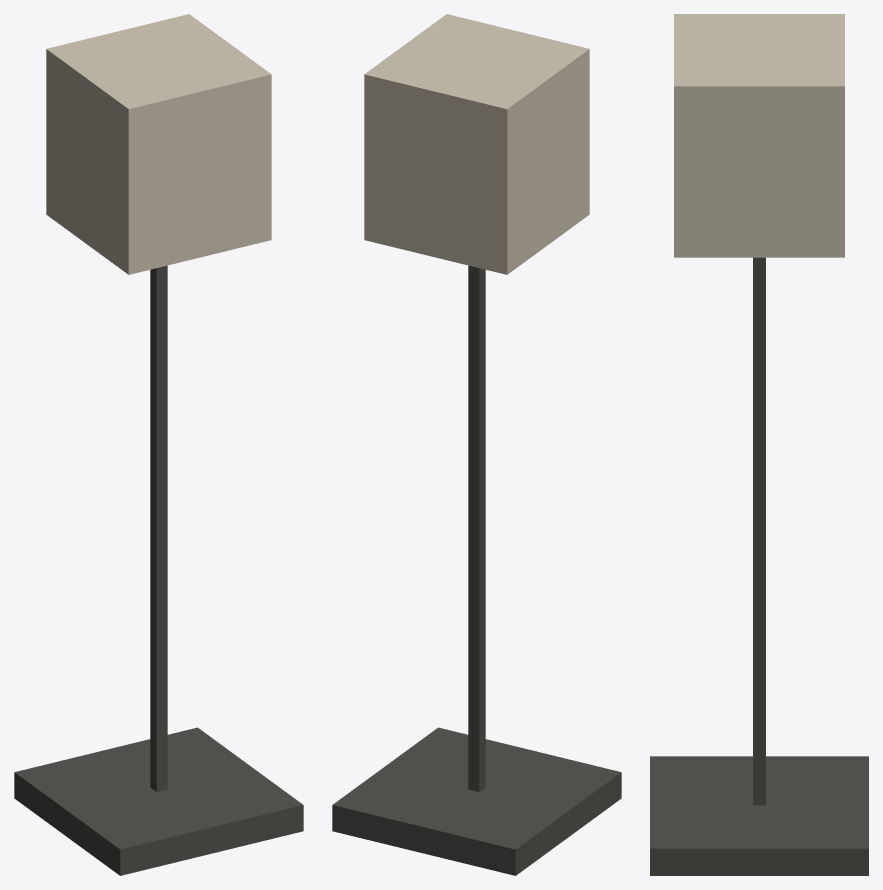
File: catalog-lamp-floor-040.gltf
3 renders of one model, left to right at view 1: azimuth 30°, elevation 25°; view 2: azimuth 150°, elevation 25°; view 3: azimuth 270°, elevation 25°, orthographic. The views are drawn at different scales.
Visible parts, largest first — view 1: Shade, Base, Stem; view 2: Shade, Base, Stem; view 3: Shade, Base, Stem.
Part boxes in pixels (x1,y1,x2,y2): Shade: [46, 14, 271, 274]; Base: [14, 727, 303, 875]; Stem: [150, 265, 167, 791]; Shade: [364, 14, 589, 274]; Base: [332, 727, 621, 875]; Stem: [468, 265, 485, 791]; Shade: [674, 14, 844, 257]; Base: [650, 756, 868, 875]; Stem: [753, 257, 765, 805].
Size of the model in its own units: 0.42 by 1.65 by 0.42.
